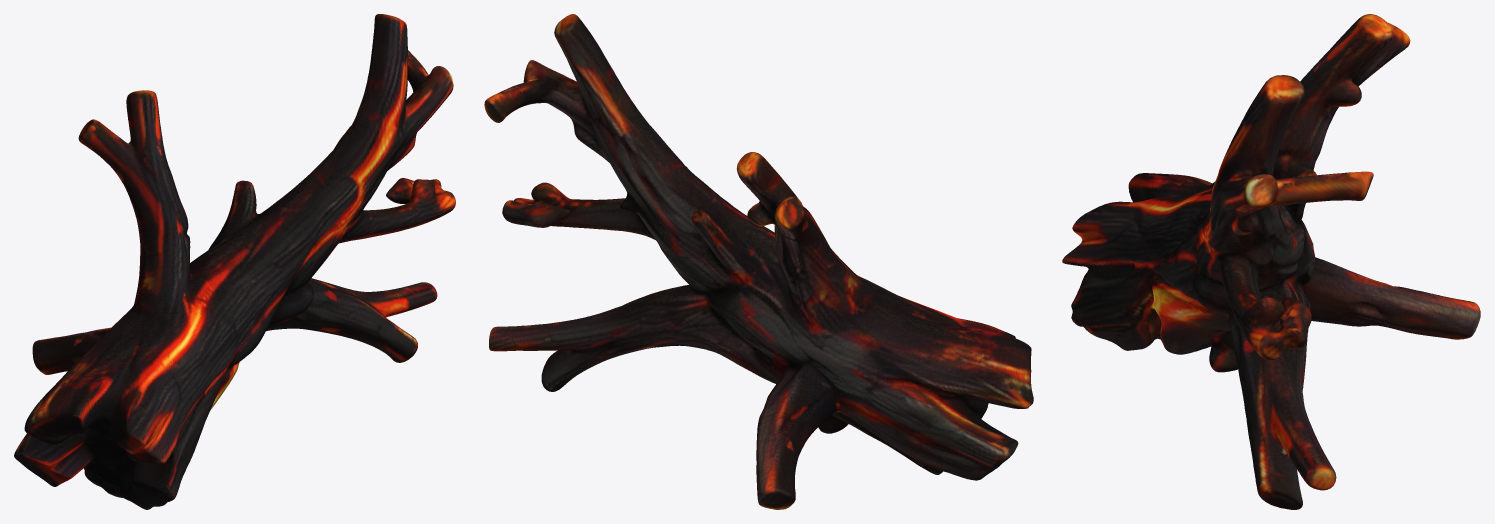
File: FallenBranch_BurningWet.fbx
3 views of the same model, side by side, from view 1: azimuth 30°, elevation 25°; view 2: azimuth 150°, elevation 25°; view 3: azimuth 270°, elevation 25° (orthographic). The views are drawn at different scales.
Visible parts, largest first — view 1: mesh_node.005; view 2: mesh_node.005; view 3: mesh_node.005.
Part boxes in pixels (x1,y1,x2,y2): mesh_node.005: (14, 14, 455, 509); mesh_node.005: (484, 14, 1033, 509); mesh_node.005: (1062, 14, 1480, 509).
Bounding box in the file's own units: 56.53 × 44.49 × 36.81.
